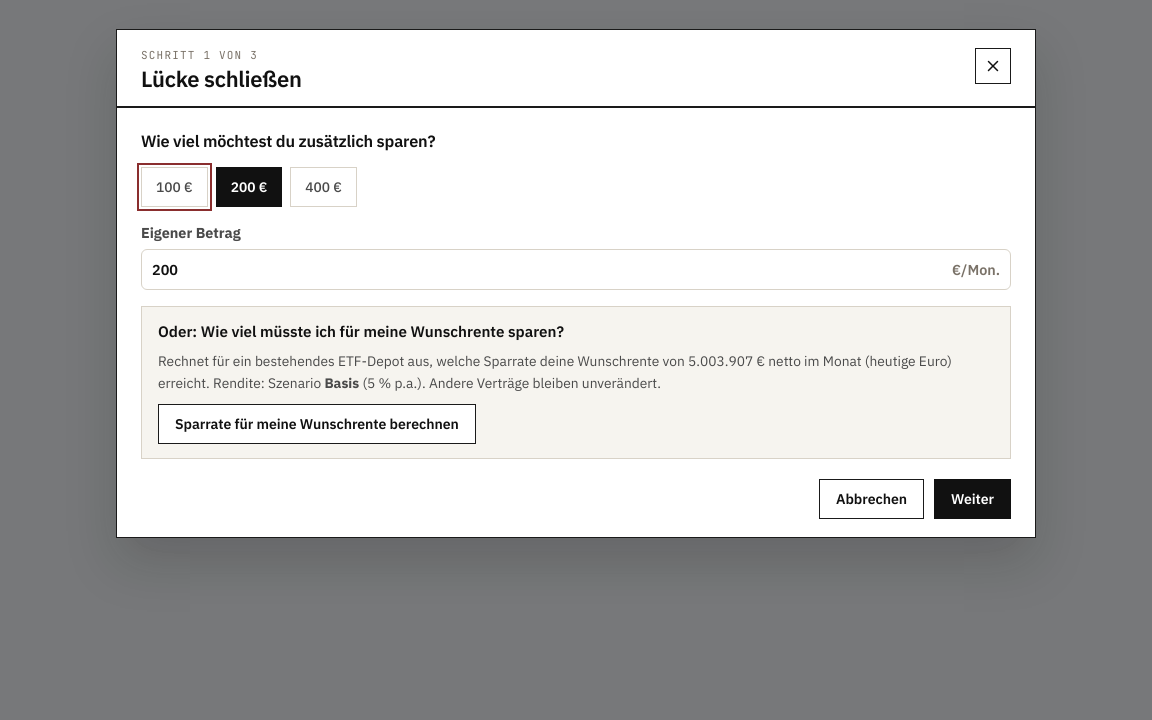
Test: LueckeSchliessenModal — target contribution solver (F07) › reports an unreachable target honestly
Click the button "Sparrate für meine Wunschrente berechnen".
click(317, 424)  # box 158,404 -> 476,444
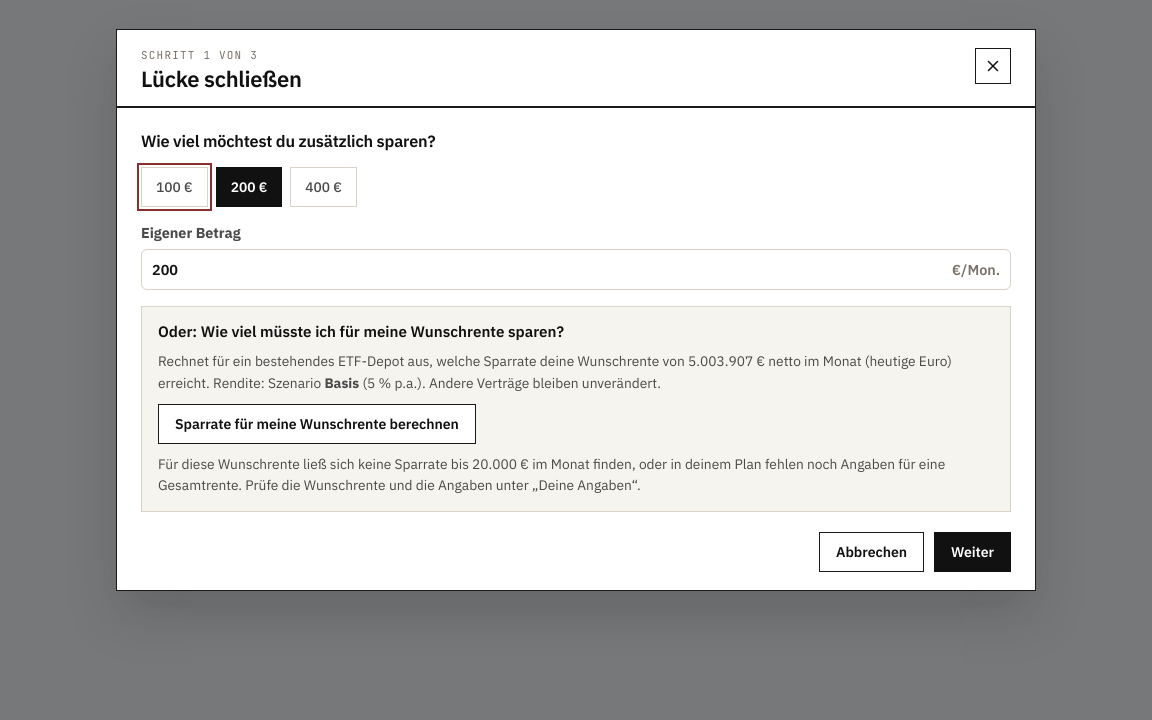
Result: the message with class "luecke-modal__solver-result" shows "keine Sparrate bis 20.000 €" at 158,455 -> 945,494
